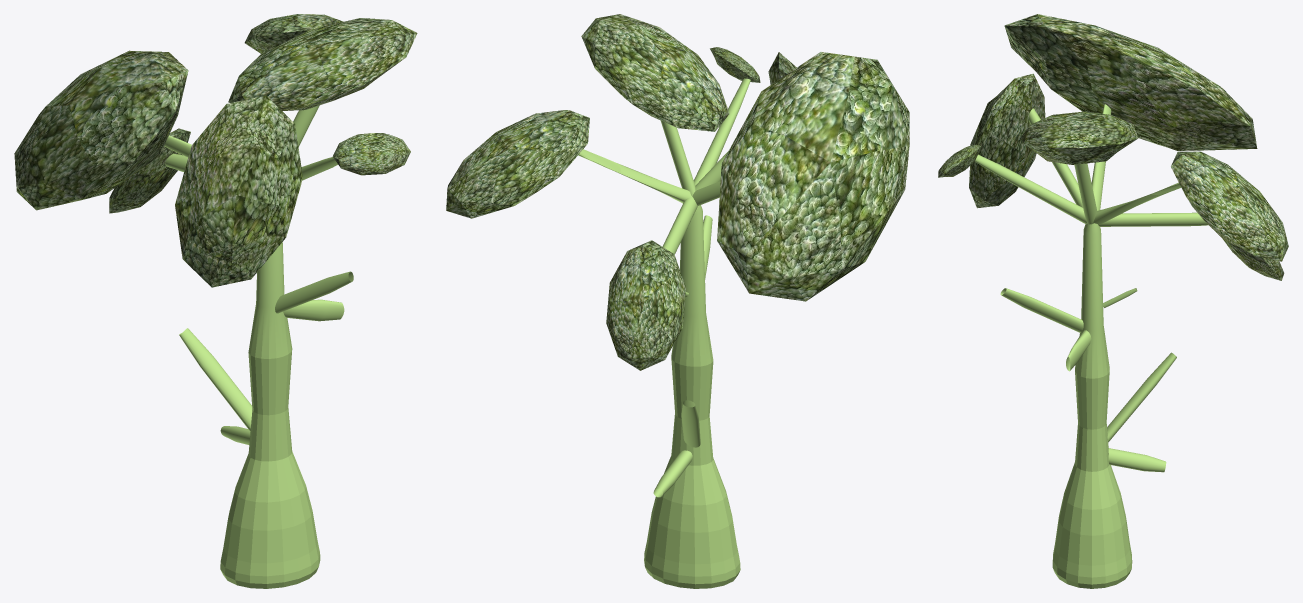
File: EngeTree 1.fbx
3 renders of one model, left to right at view 1: azimuth 30°, elevation 25°; view 2: azimuth 150°, elevation 25°; view 3: azimuth 270°, elevation 25°, orthographic. The views are drawn at different scales.
Visible parts, largest first — view 1: Icosphere.001, Icosphere.000, Plane, Icosphere.003, Icosphere.002, Icosphere.005, Icosphere.004, Plane.009, Plane.007, Plane.008; view 2: Icosphere.000, Plane, Icosphere.003, Icosphere.004, Icosphere.005, Plane.003, Plane.002, Plane.005, Icosphere.002, Plane.006, Plane.009, Plane.010; view 3: Icosphere.000, Plane, Icosphere.004, Icosphere.001, Icosphere.003, Plane.003, Plane.006, Plane.009, Plane.007, Plane.010, Icosphere.005, Plane.005 (+5 smaller).
Part boxes in pixels (bbox=[...]): Icosphere.001: bbox=[175, 95, 302, 287]; Icosphere.000: bbox=[14, 50, 188, 210]; Plane: bbox=[220, 242, 320, 588]; Icosphere.003: bbox=[228, 18, 417, 111]; Icosphere.002: bbox=[332, 133, 410, 175]; Icosphere.005: bbox=[109, 128, 190, 213]; Icosphere.004: bbox=[244, 14, 343, 53]; Plane.009: bbox=[179, 328, 252, 431]; Plane.007: bbox=[275, 271, 353, 313]; Plane.008: bbox=[283, 299, 344, 321]; Icosphere.000: bbox=[717, 52, 909, 301]; Plane: bbox=[644, 205, 740, 588]; Icosphere.003: bbox=[581, 14, 729, 131]; Icosphere.004: bbox=[446, 110, 589, 218]; Icosphere.005: bbox=[606, 240, 685, 370]; Plane.003: bbox=[693, 78, 750, 185]; Plane.002: bbox=[578, 149, 691, 203]; Plane.005: bbox=[661, 121, 695, 195]; Icosphere.002: bbox=[710, 47, 760, 82]; Plane.006: bbox=[662, 196, 697, 254]; Plane.009: bbox=[681, 400, 700, 447]; Plane.010: bbox=[653, 450, 692, 497]; Icosphere.000: bbox=[1004, 14, 1257, 150]; Plane: bbox=[1052, 223, 1132, 588]; Icosphere.004: bbox=[1171, 151, 1288, 261]; Icosphere.001: bbox=[969, 73, 1045, 208]; Icosphere.003: bbox=[1020, 111, 1138, 164]; Plane.003: bbox=[975, 154, 1087, 224]; Plane.006: bbox=[1098, 212, 1208, 226]; Plane.009: bbox=[1107, 352, 1176, 442]; Plane.007: bbox=[1000, 288, 1083, 332]; Plane.010: bbox=[1108, 448, 1166, 472]; Icosphere.005: bbox=[1223, 239, 1284, 280]; Plane.005: bbox=[1074, 163, 1097, 224].
Bounding box in the file's own units: 881 × 1223 × 782.
